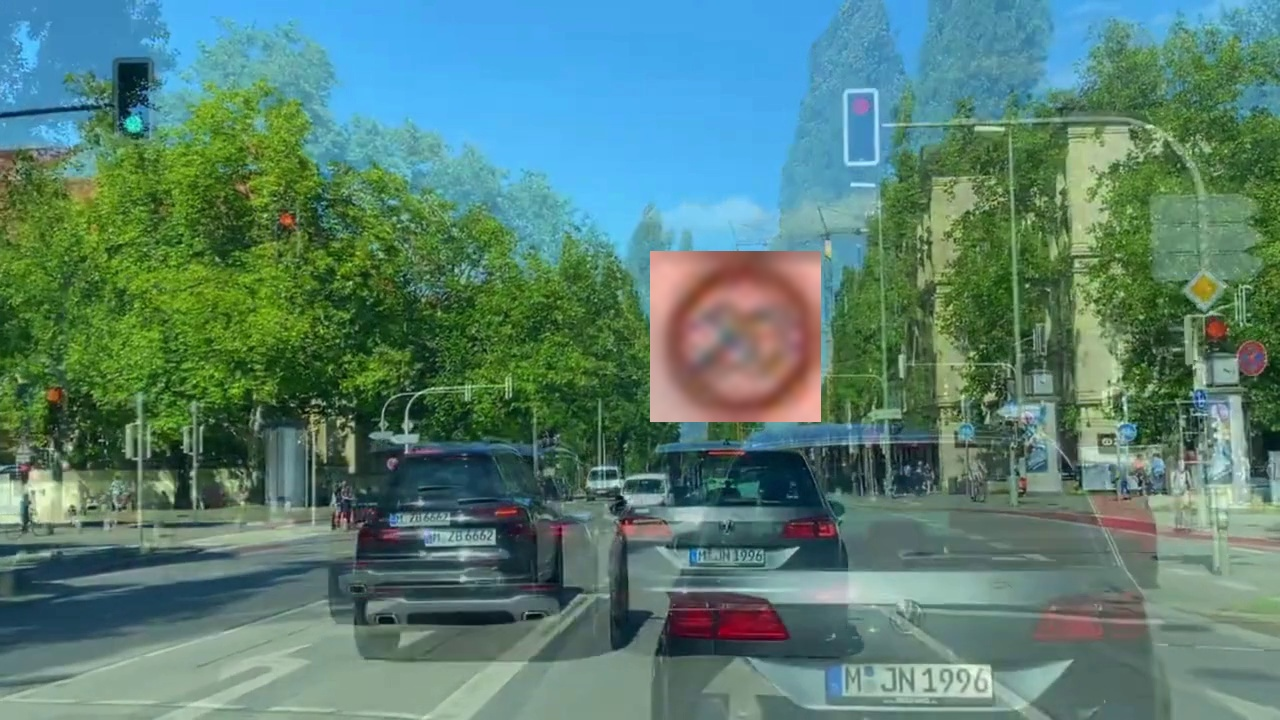Speed 20: (650, 251, 821, 422)
